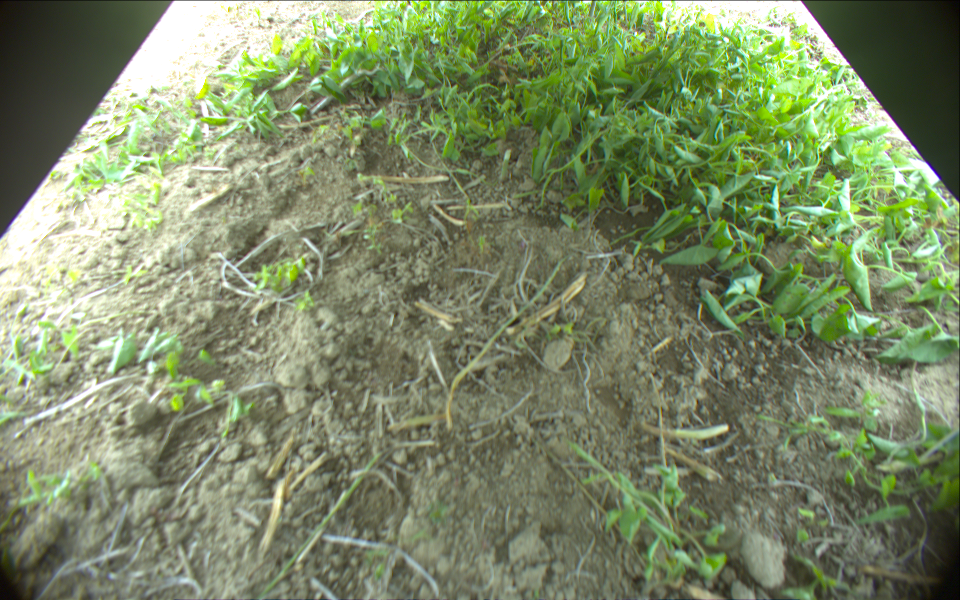aspa: (587, 1, 598, 21)
